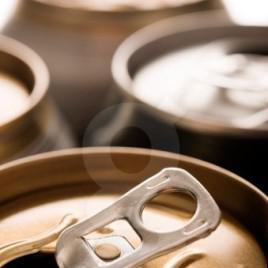beer: (1, 145, 267, 268)
